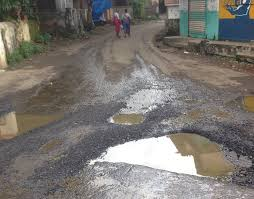pothole: (85, 125, 253, 182), (1, 106, 64, 149), (101, 108, 163, 129)
